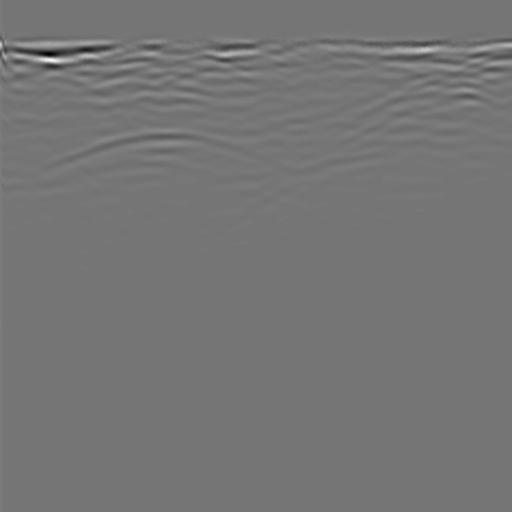hyperbola: (28, 121, 307, 217)
